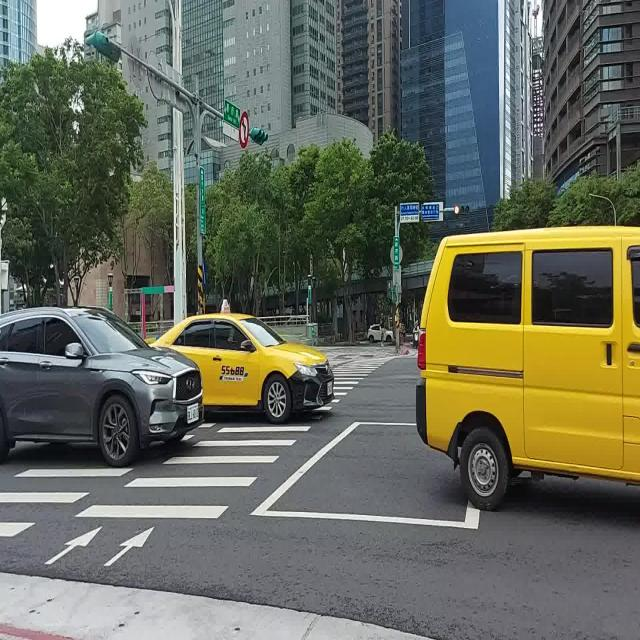car: (416, 227, 640, 509), (0, 307, 204, 467), (156, 313, 335, 422), (366, 324, 392, 342)
crosswalk: (72, 355, 396, 520), (0, 465, 135, 539)
